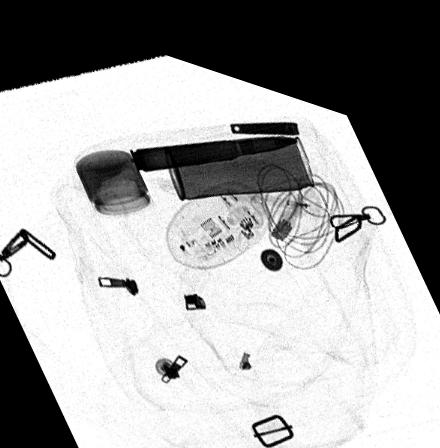Bullet: (128, 114, 299, 161)
